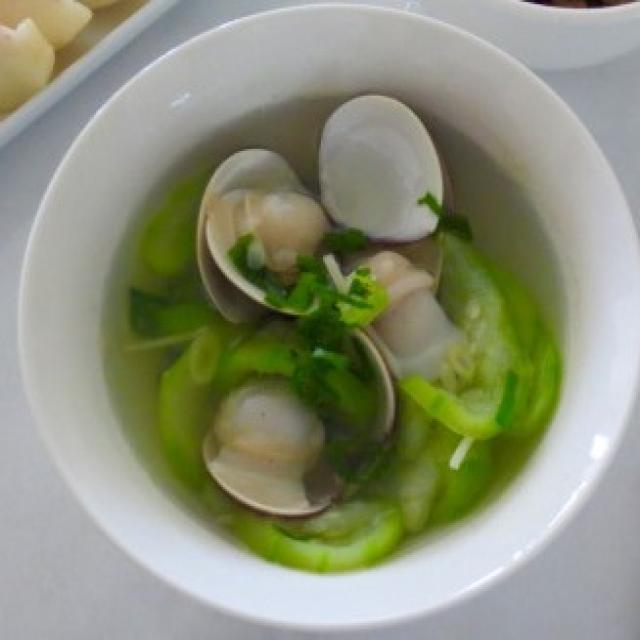Wet: (163, 121, 544, 551)
